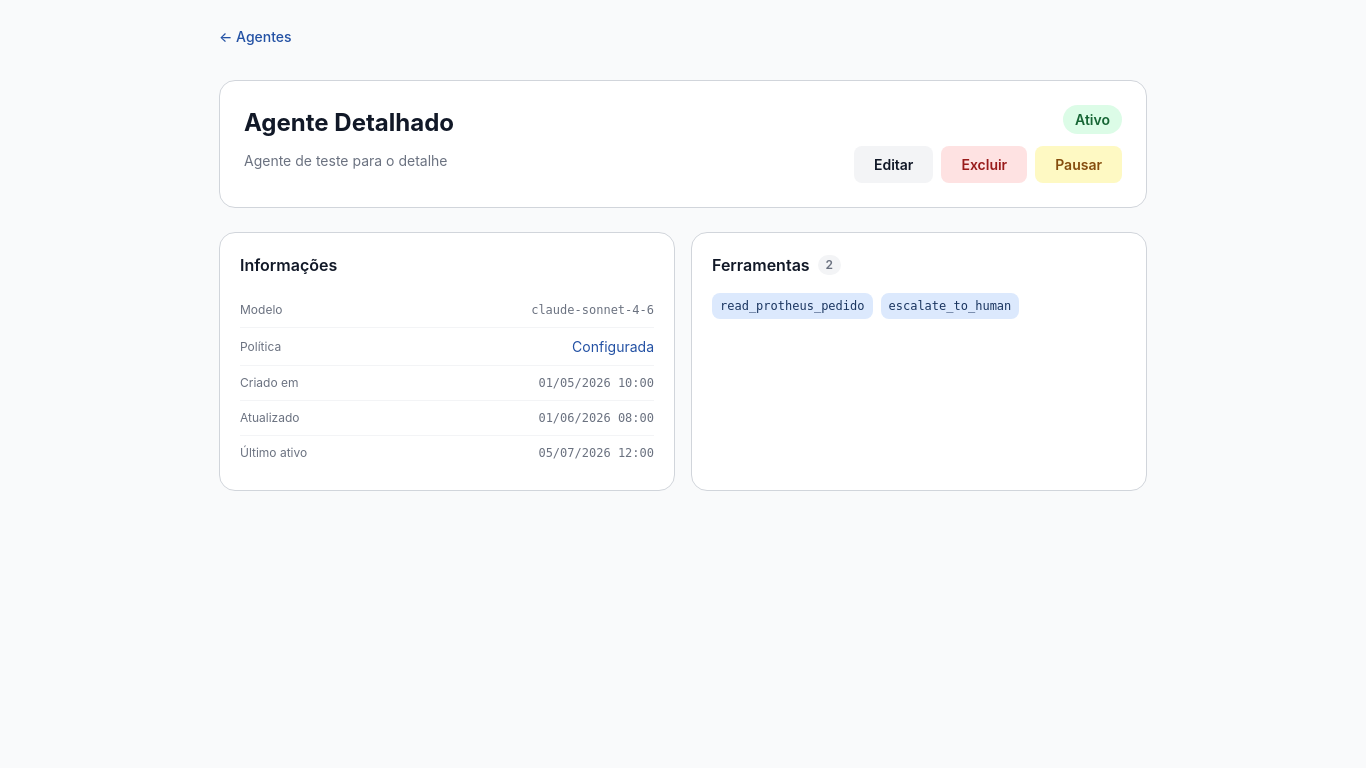
Test: AgenteDetailComponent — modal de exclusão › abre modal ao clicar no botão Excluir
Click the button with class "agente-detail__btn--excluir": (984, 164) top-left (941, 146), bottom-right (1027, 183)
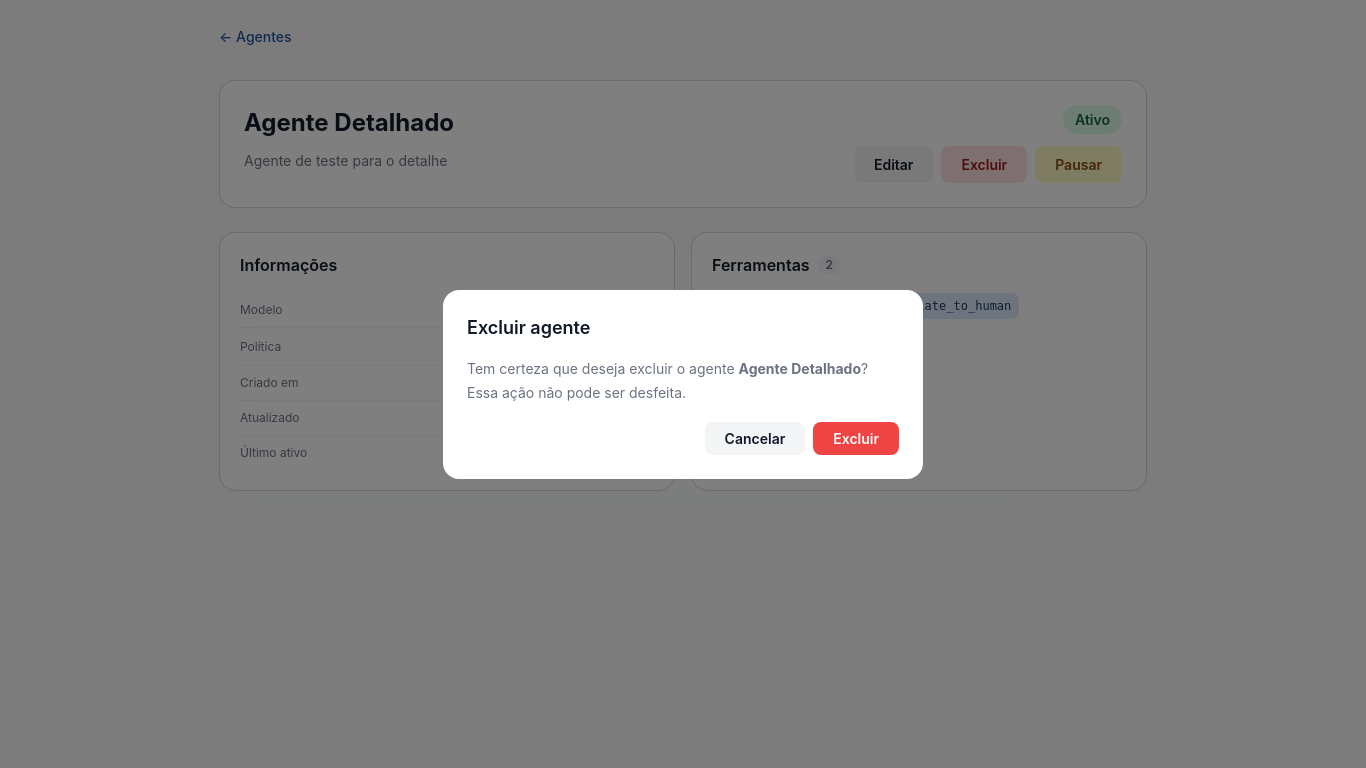
Check: the dialog with class "agente-detail__modal-overlay" is shown
Check: the heading with id "modal-excluir-titulo" reads "Excluir agente", box top-left (467, 316), bottom-right (590, 338)
